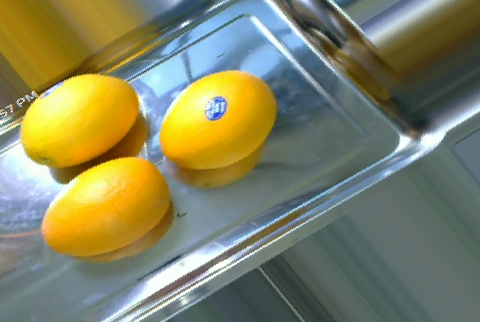Orange: (41, 156, 170, 256), (159, 70, 277, 171), (20, 73, 137, 168)
